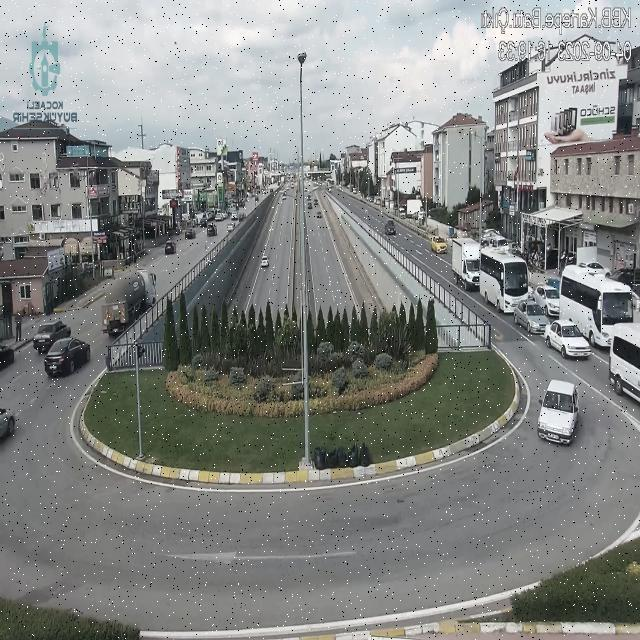Bus: (552, 266, 640, 331), (475, 239, 531, 315), (594, 336, 640, 399)
Car: (541, 372, 584, 445), (544, 319, 592, 359), (43, 337, 91, 377), (513, 299, 549, 333), (33, 320, 70, 352), (532, 282, 560, 317), (480, 229, 508, 248), (430, 235, 448, 253), (385, 220, 396, 236), (164, 242, 176, 254), (260, 256, 270, 267)
Truck: (101, 252, 156, 331), (447, 228, 483, 290)
